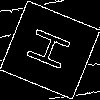H: (25, 25, 81, 77)
